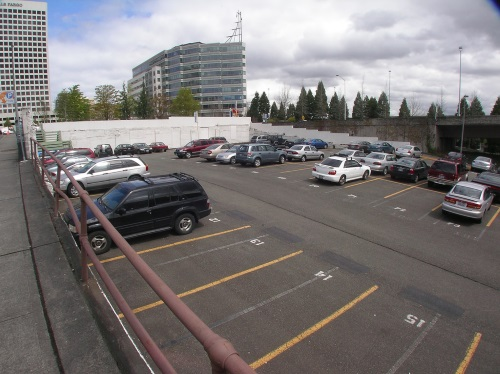car: (68, 171, 204, 258), (49, 150, 150, 201), (446, 176, 493, 226), (307, 153, 372, 186), (233, 144, 289, 167), (427, 155, 462, 189), (392, 154, 427, 180), (474, 166, 500, 201), (173, 141, 221, 159), (363, 149, 395, 174), (286, 141, 324, 161), (199, 140, 236, 159), (336, 147, 368, 161), (92, 140, 115, 157), (112, 142, 136, 155), (132, 140, 150, 157), (148, 140, 168, 153)
